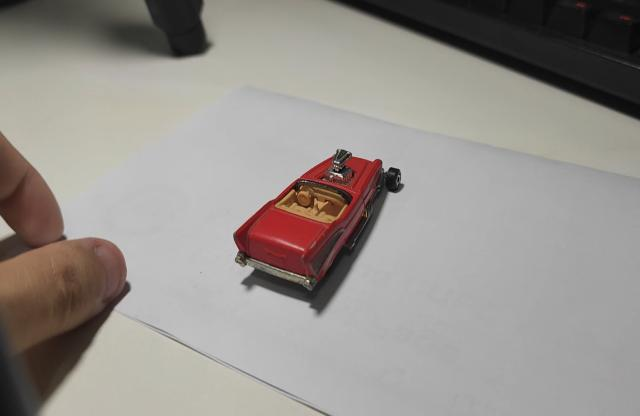03_V8: (232, 150, 403, 293)
